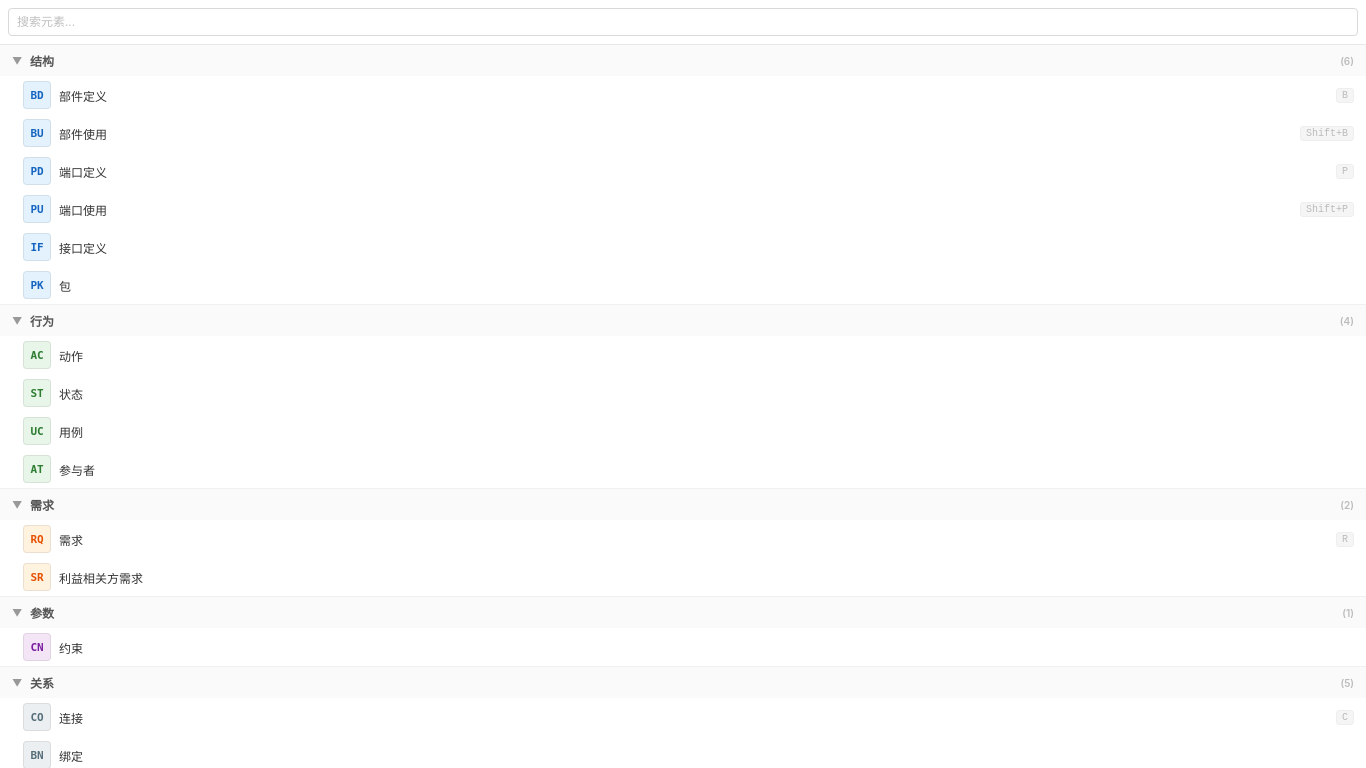
Test case: ToolboxPanel — Search Filter › 3.5 filtering with partial Chinese "端口" should match
Step 1. Type "端口" into the field with placeholder "搜索元素..." → (683, 22), box [8,8,1358,36]
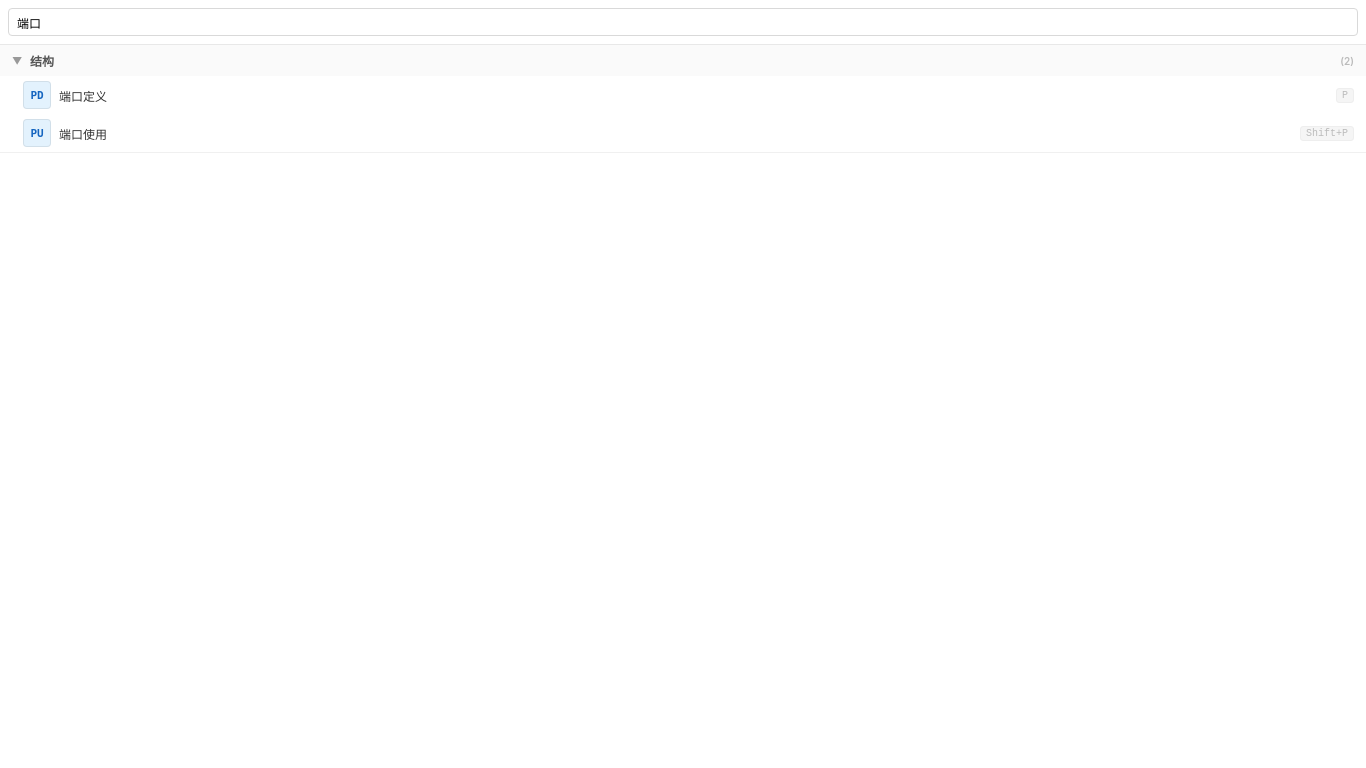
Expected: the text "端口定义" is shown, [59,88,107,104]
Expected: the text "接口定义" is gone
